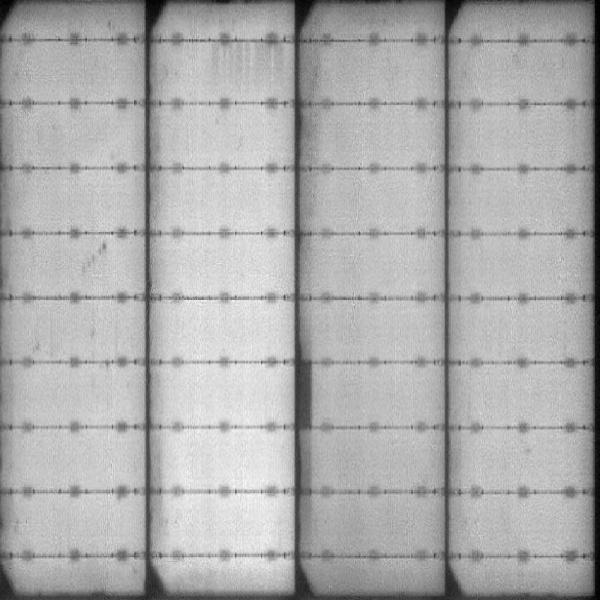black_border: (294, 356, 316, 437)
scratch: (75, 242, 110, 278)
